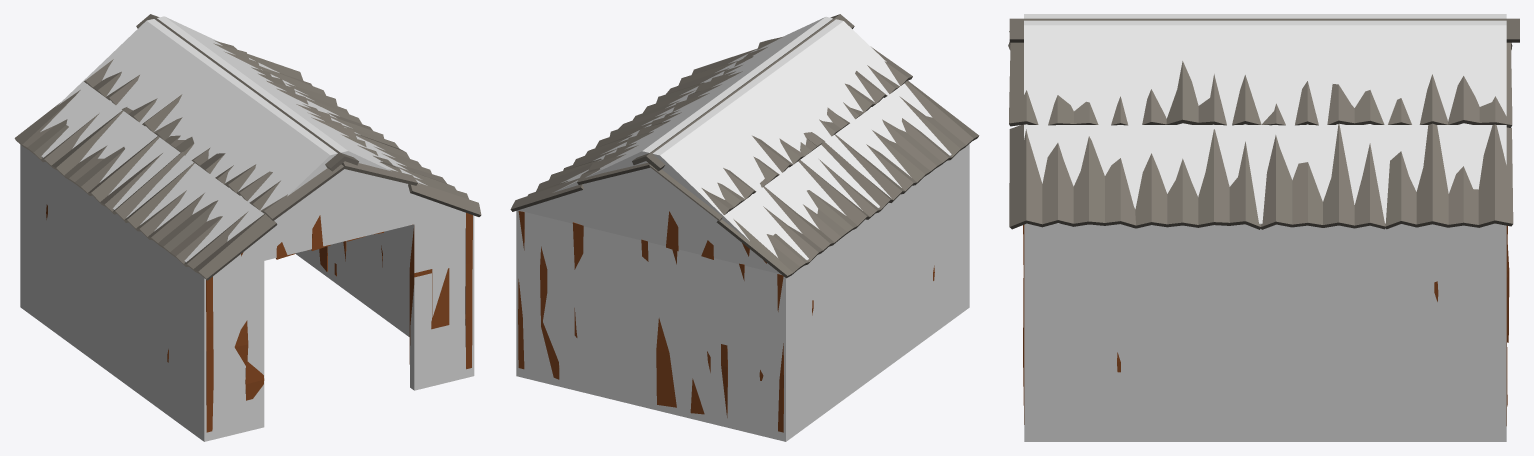
The model's file is Cahaq.fbx.
The picture shows the model from 3 angles, left to right: view 1: azimuth 30°, elevation 25°; view 2: azimuth 150°, elevation 25°; view 3: azimuth 270°, elevation 25°; orthographic projection. The views are drawn at different scales.
Parts seen in each view (by area): view 1: Куб.089, Куб.015; view 2: Куб.089, Куб.015; view 3: Куб.089, Куб.015.
Part boxes in pixels (x1,y1,x2,y2): Куб.089: (20, 16, 474, 441); Куб.015: (14, 14, 481, 432); Куб.089: (516, 16, 969, 441); Куб.015: (510, 14, 979, 432); Куб.089: (1024, 14, 1506, 441); Куб.015: (1008, 18, 1519, 425).
Size of the model in its own units: 3517 by 3072 by 4229.
